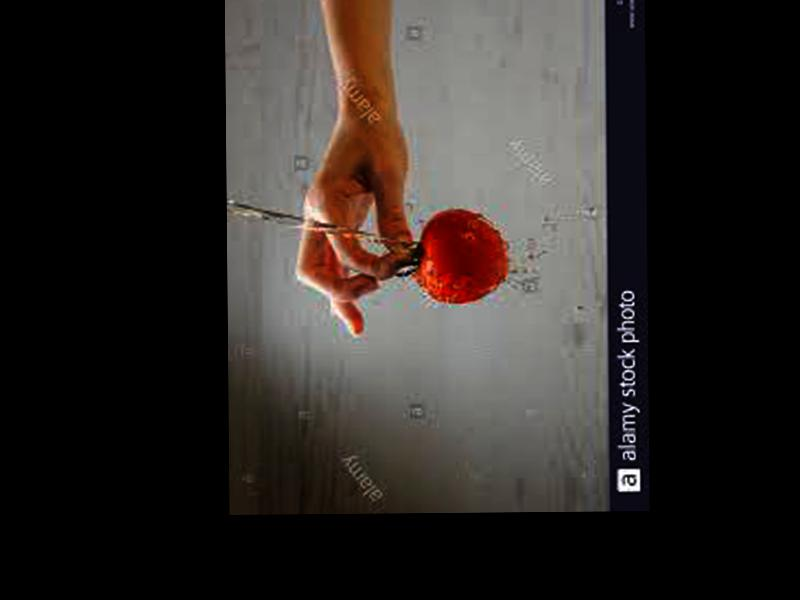Tomato: (417, 206, 510, 301)
